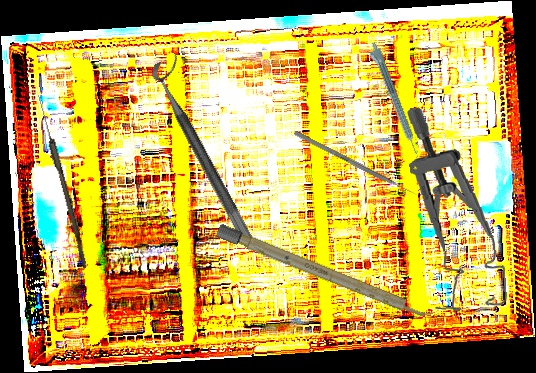Fixation Ring: (147, 53, 273, 249)
Handpiece: (364, 40, 421, 158)
Pusher: (293, 130, 421, 199)
Scalpel Handle: (215, 223, 435, 323)
Speculum: (405, 102, 508, 314)
Surgical Spoon: (33, 93, 92, 269)
